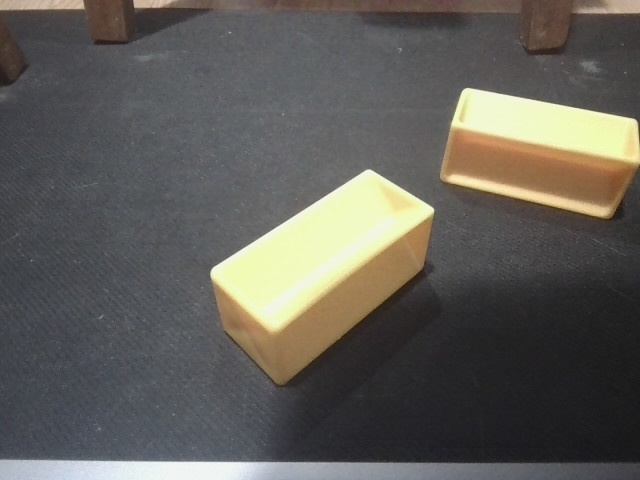YellowSample: (209, 165, 435, 389), (437, 83, 640, 227)
